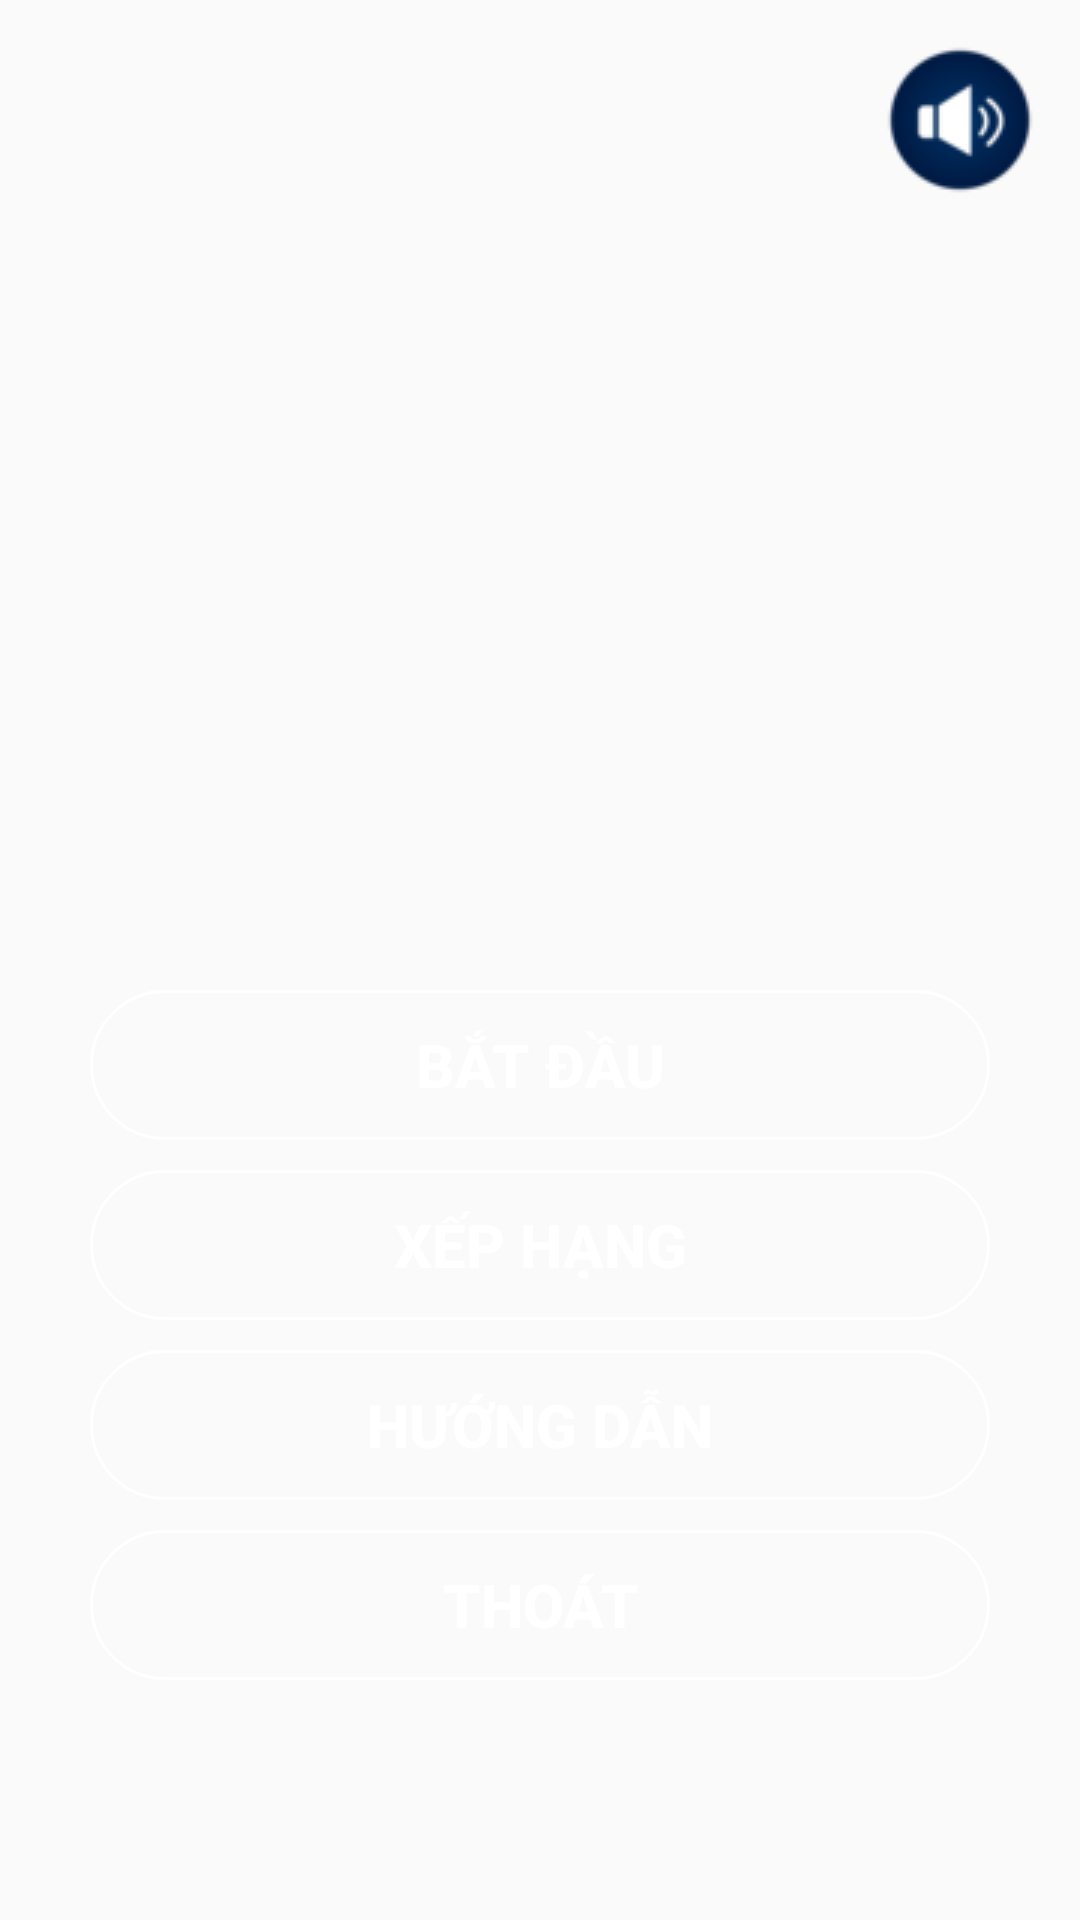

Point at icon controls on the screen. Image size 1080w x 1920h, points as [x,y].
sound: [960,120]
